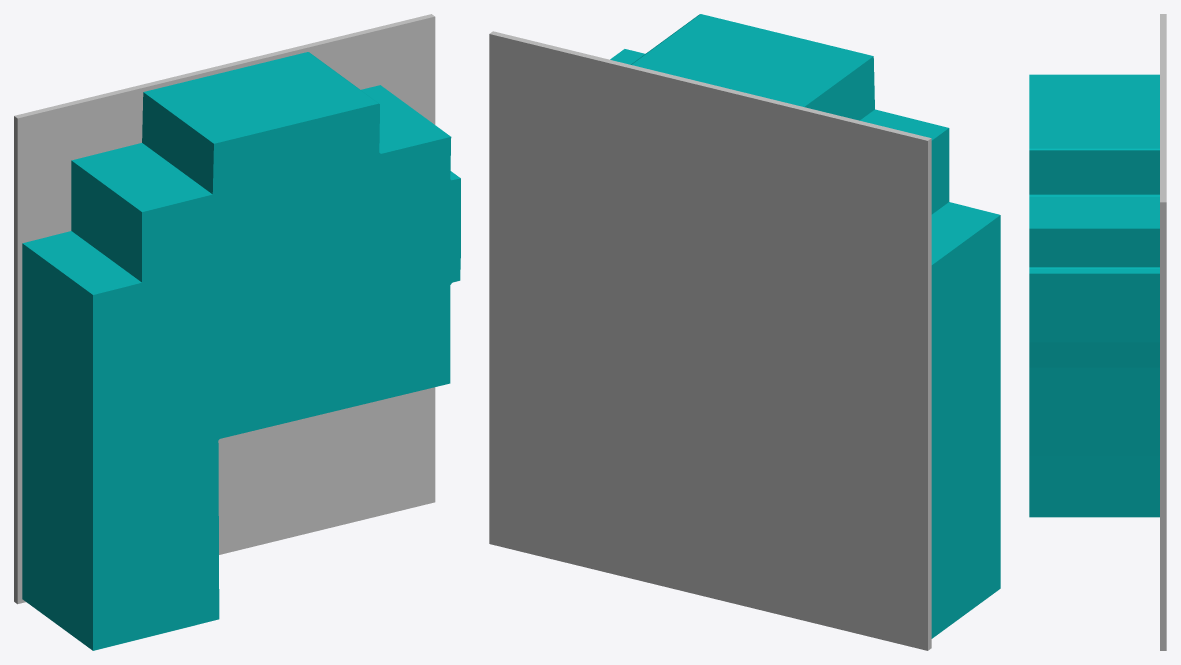
3 renders of one model, left to right at view 1: azimuth 30°, elevation 25°; view 2: azimuth 150°, elevation 25°; view 3: azimuth 270°, elevation 25°, orthographic. The views are drawn at different scales.
Visible parts, largest first — view 1: world; view 2: world; view 3: world.
Part boxes in pixels (left/top/right/bottom): world: left=14, top=14, right=460, bottom=650; world: left=489, top=14, right=1000, bottom=650; world: left=1029, top=14, right=1166, bottom=650.
Size of the model in its own units: 10.23 by 11.37 by 3.15.
